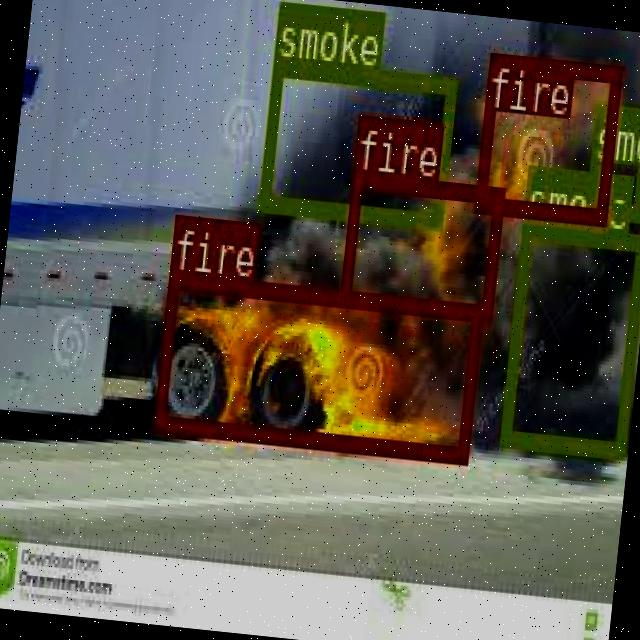fire: (152, 270, 480, 462), (338, 169, 503, 318), (474, 52, 620, 220)
smoke: (257, 56, 456, 225), (498, 219, 640, 454), (584, 103, 640, 220)
